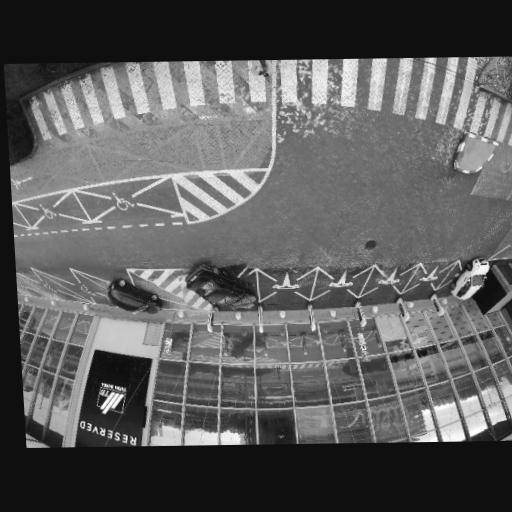busy: (177, 259, 255, 314), (447, 258, 494, 301), (105, 279, 160, 315)
free: (223, 412, 254, 438), (262, 415, 293, 439), (298, 416, 329, 437)
